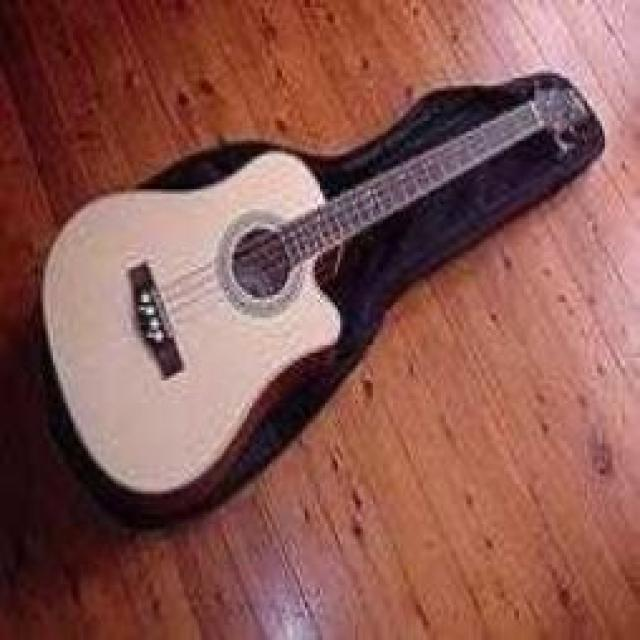acousticguitar: (43, 88, 587, 511)
